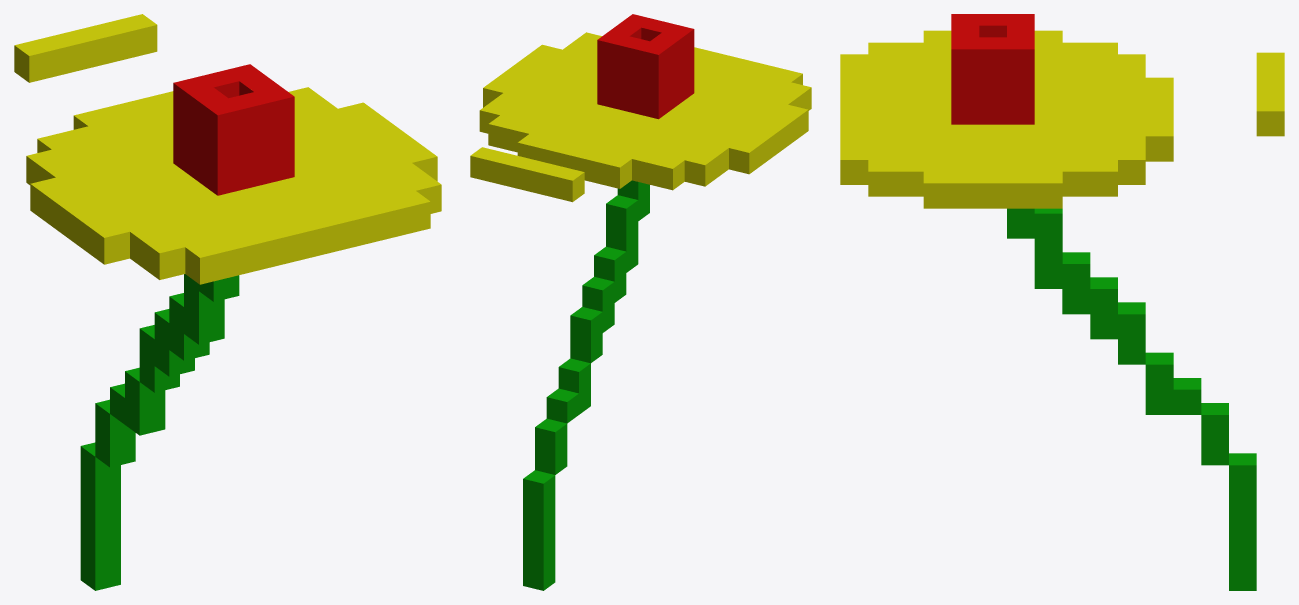
3 views of the same model, side by side, from view 1: azimuth 30°, elevation 25°; view 2: azimuth 150°, elevation 25°; view 3: azimuth 270°, elevation 25° (orthographic). The views are drawn at different scales.
Bounding box in the file's own units: 0.65 × 1.1 × 0.8.
